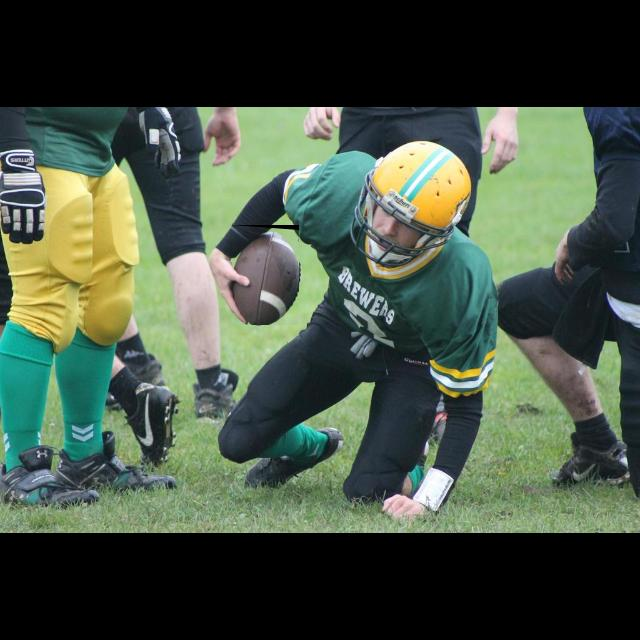Football: (231, 225, 299, 325)
